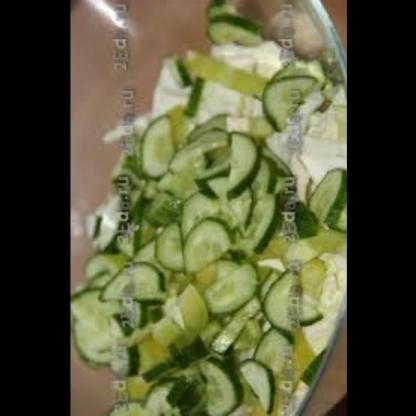cucumber: (72, 136, 289, 414), (283, 164, 346, 301), (254, 53, 313, 136), (197, 1, 263, 47), (175, 67, 214, 129)
